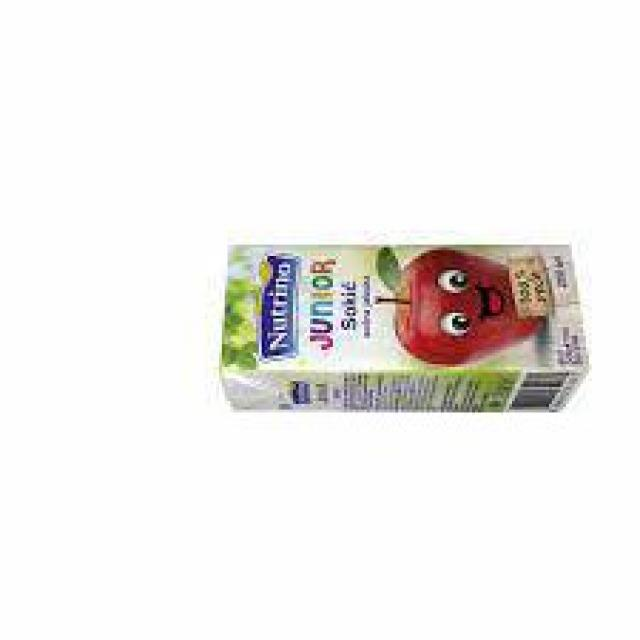non_white_jug: (215, 240, 596, 417)
